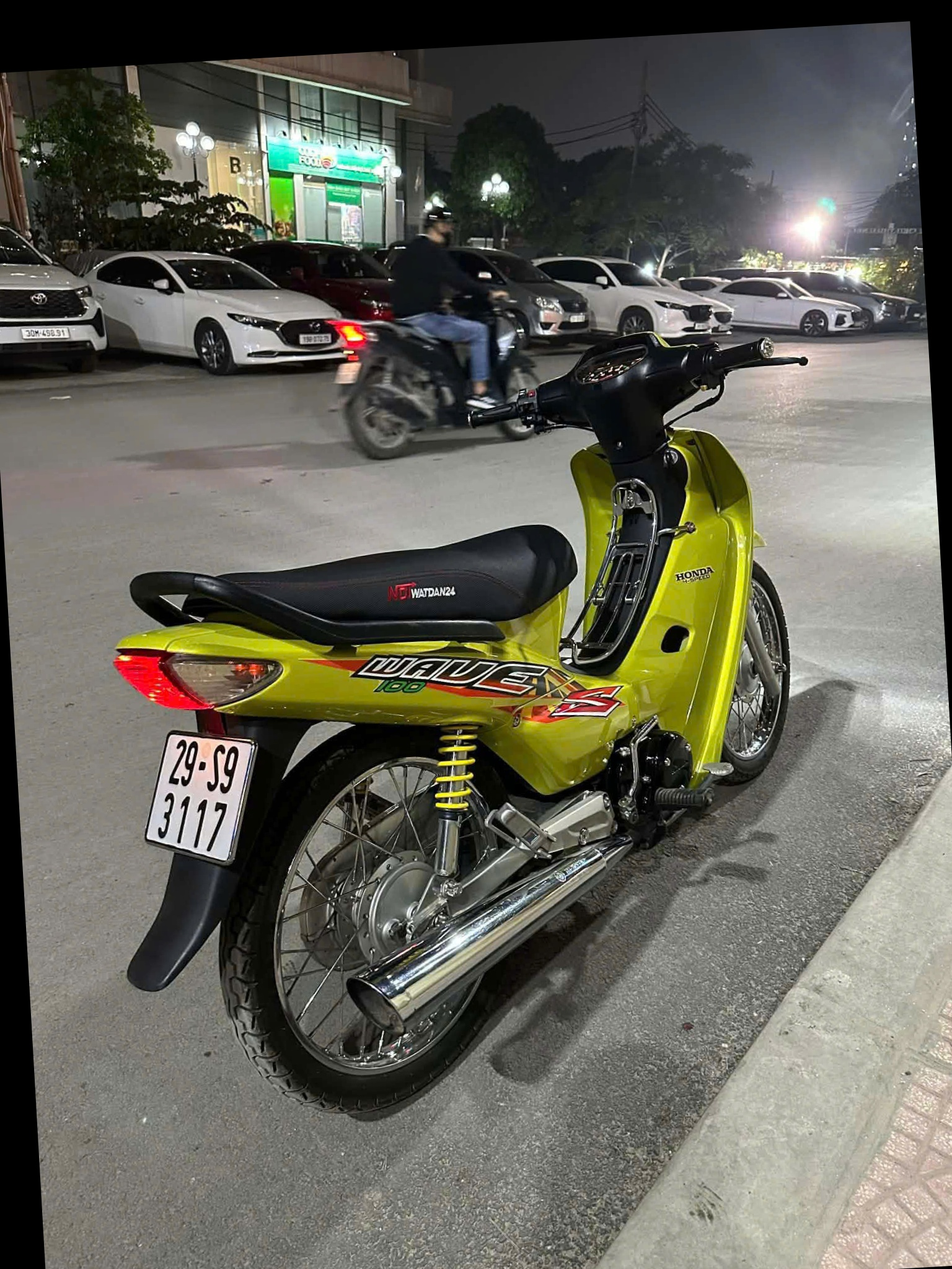Bien-so: (96, 650, 220, 791)
